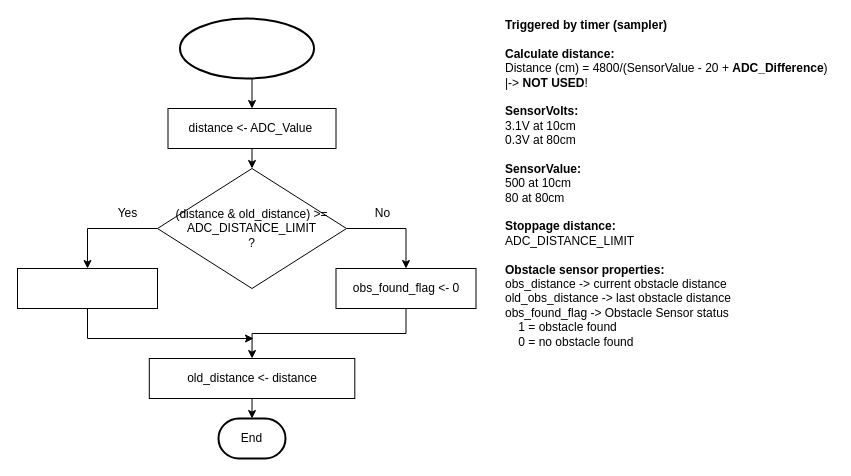
Some shapes in this 851 by 476 pixel diagram are drawn without their labels. Each missing label, with the centre of its shape:
"ADC_ISR" belongs at point 246,48.
"obs_found_flag <- 1" belongs at point 87,288.
